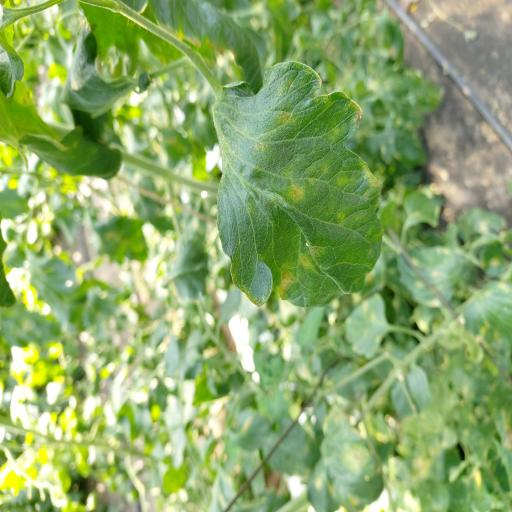disease_tomato: (213, 60, 382, 307)
